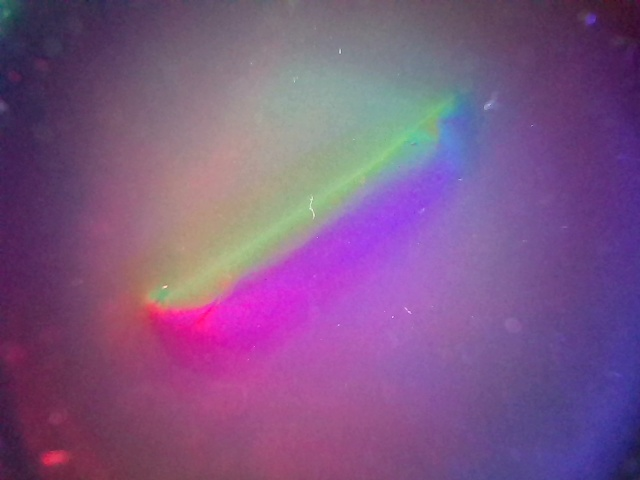contact: (149, 90, 462, 320)
